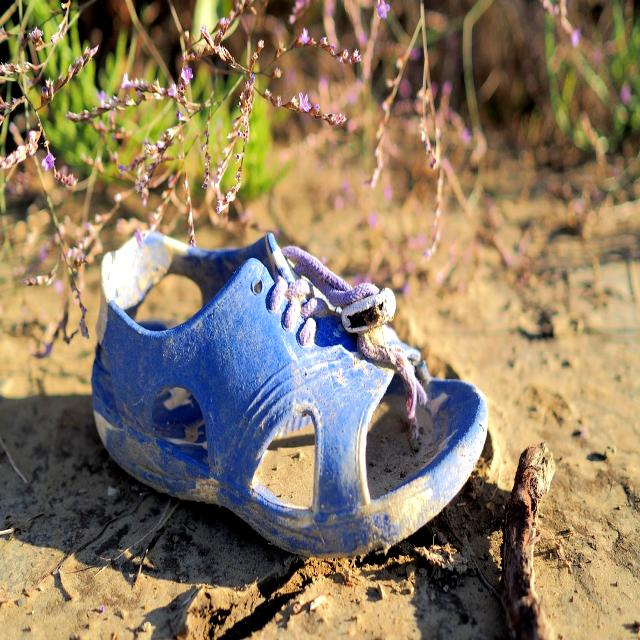Trash: (90, 216, 485, 554)
